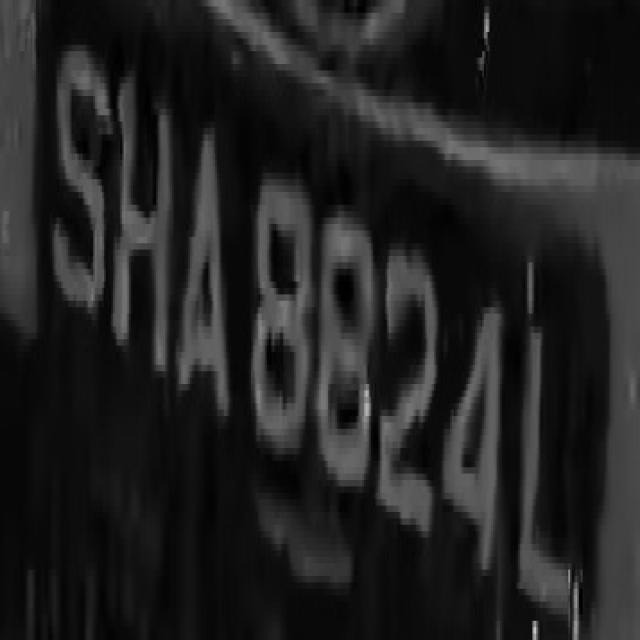2: (378, 211, 443, 544)
4: (440, 256, 508, 582)
8: (312, 172, 376, 506), (247, 154, 312, 460)
A: (170, 83, 233, 435)
H: (113, 58, 174, 403)
L: (513, 294, 581, 621)
S: (54, 26, 109, 346)
